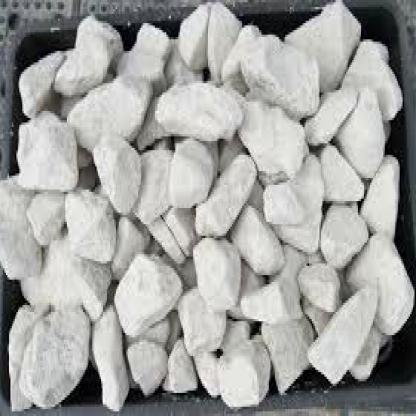Sedimentary_Chalk: (221, 19, 321, 120), (309, 275, 383, 379), (24, 296, 92, 402), (53, 10, 128, 100), (114, 247, 183, 340), (69, 67, 148, 146), (162, 74, 248, 136), (198, 155, 262, 236), (334, 83, 388, 171), (65, 180, 119, 252), (218, 335, 272, 405), (363, 150, 404, 238), (189, 242, 245, 302), (238, 271, 300, 322), (266, 178, 310, 224)
